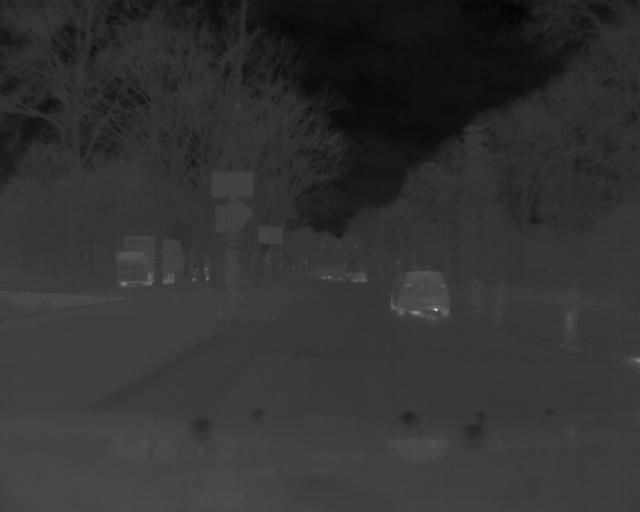car: (113, 236, 188, 288), (389, 268, 453, 320)
